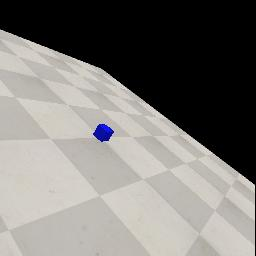box: (93, 124, 114, 142)
